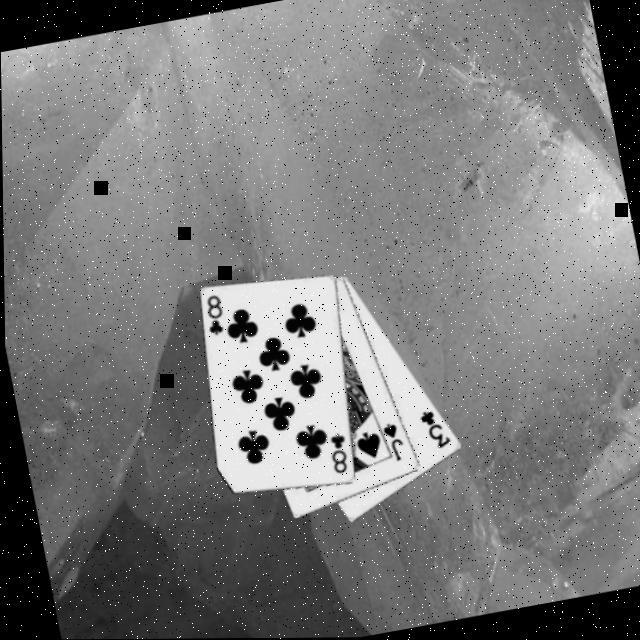3C: (416, 406, 456, 455)
8C: (201, 293, 231, 341), (326, 430, 355, 478)
JS: (379, 420, 410, 467)
